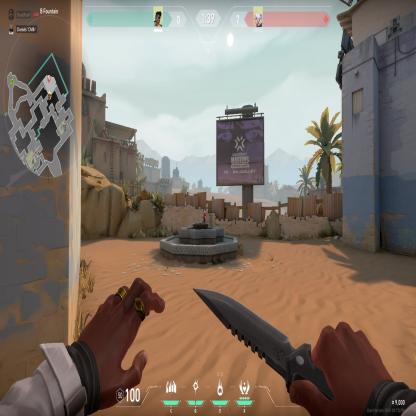enemy: (202, 209, 206, 224)
